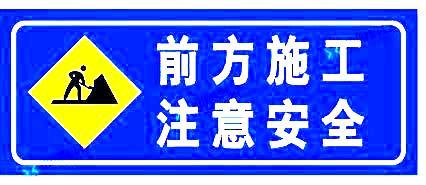sign: (7, 14, 409, 169)
